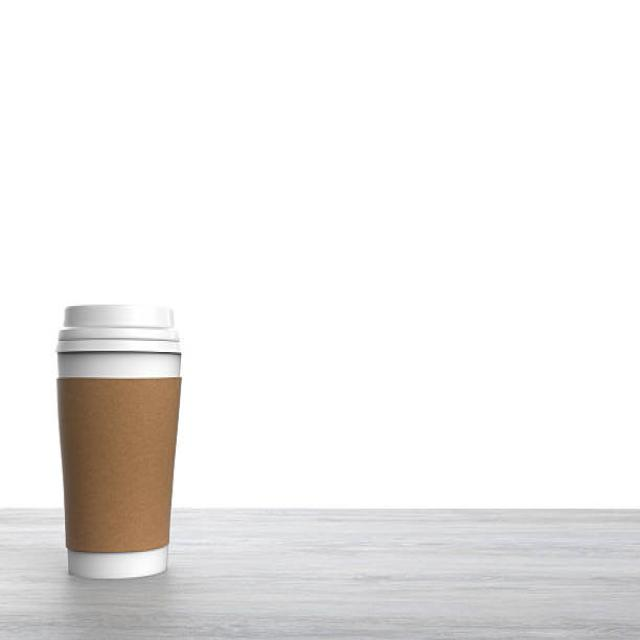cup: (54, 301, 183, 584)
